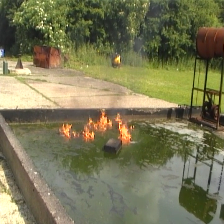fire_h: (81, 109, 111, 143), (116, 112, 135, 144)
fire_l: (58, 123, 80, 139)
